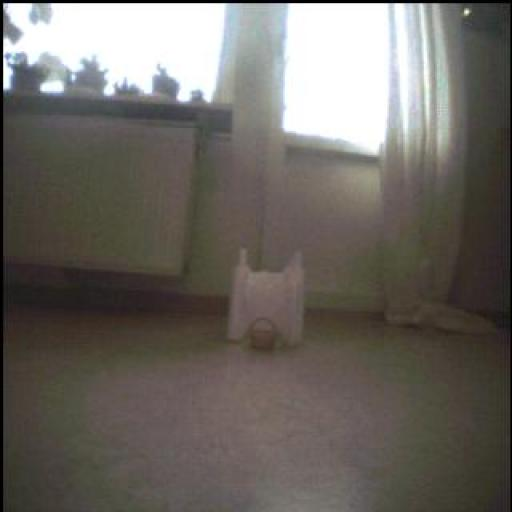Basket: (249, 318, 279, 351)
